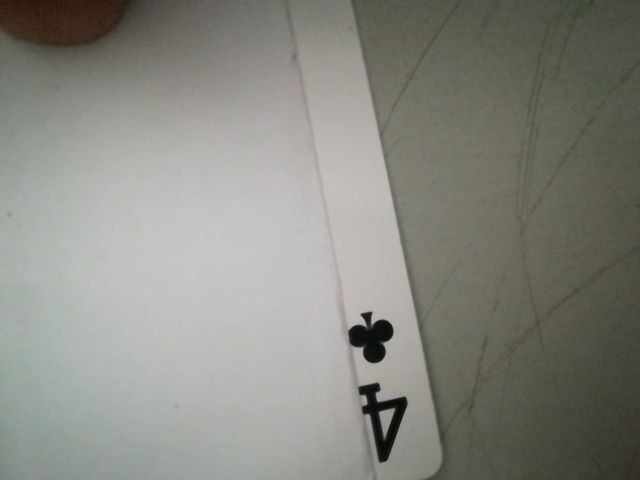mh 4: (335, 300, 426, 478)
